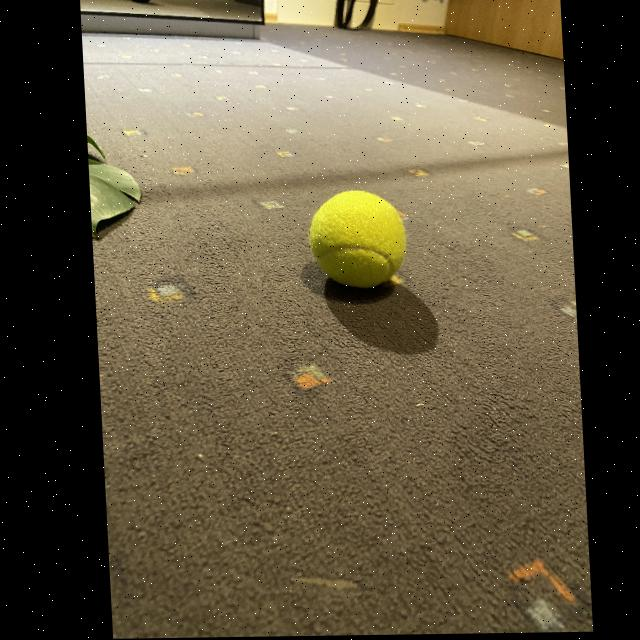Tennisball: (309, 191, 406, 288)
